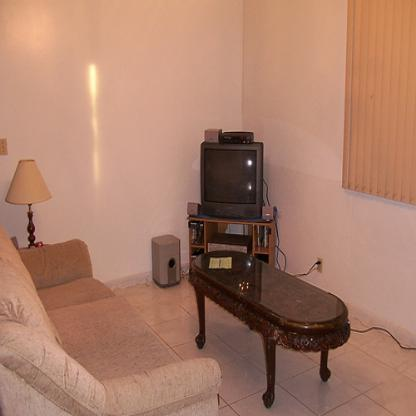sofa: (0, 223, 222, 416)
tvmonitor: (199, 140, 264, 218)
